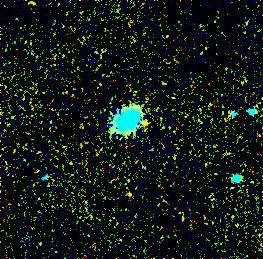star: (132, 107, 162, 137)
